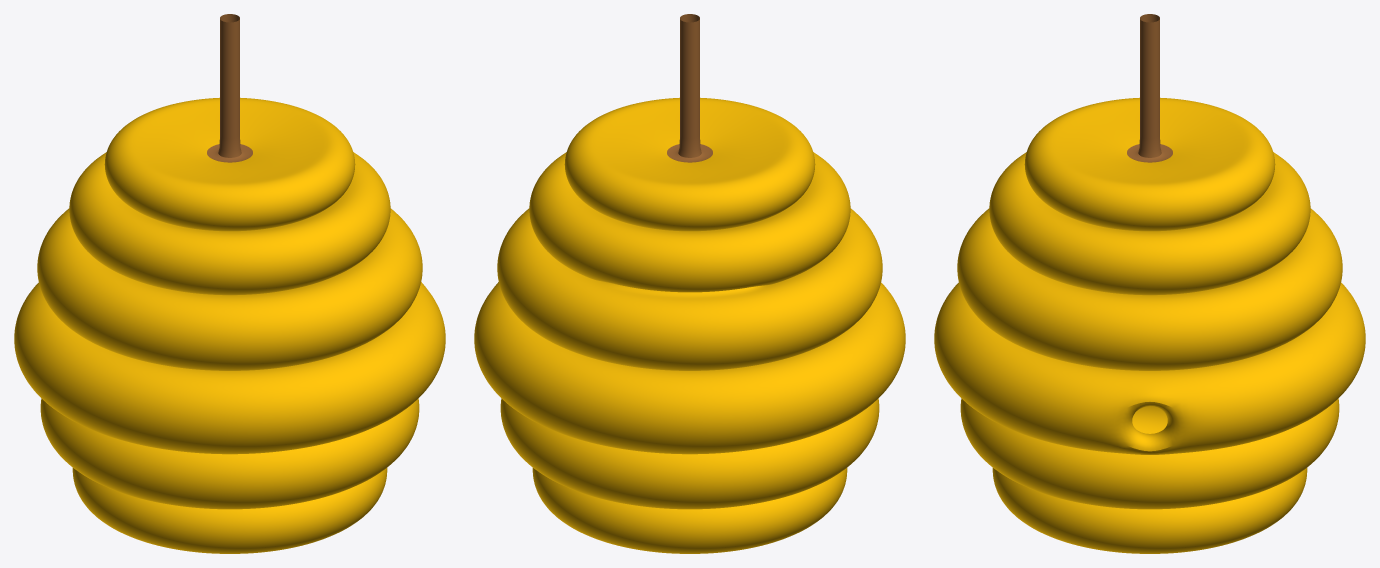
File: beehive01.glb
3 views of the same model, side by side, from view 1: azimuth 30°, elevation 25°; view 2: azimuth 150°, elevation 25°; view 3: azimuth 270°, elevation 25° (orthographic).
Parts seen in each view (by area): view 1: Torus.005; view 2: Torus.005; view 3: Torus.005.
Part boxes in pixels (box(x1,y1,x2,y2)): Torus.005: box(14, 14, 445, 553); Torus.005: box(474, 14, 905, 553); Torus.005: box(934, 14, 1365, 553).
Size of the model in its own units: 2.44 by 3.04 by 2.47.
